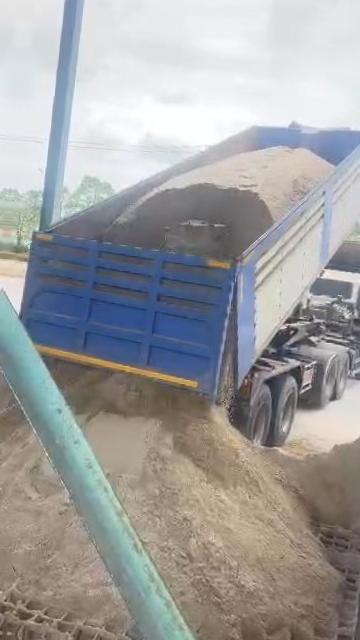sand: (47, 321, 332, 640), (0, 357, 128, 631), (101, 147, 333, 256), (283, 429, 360, 537)
